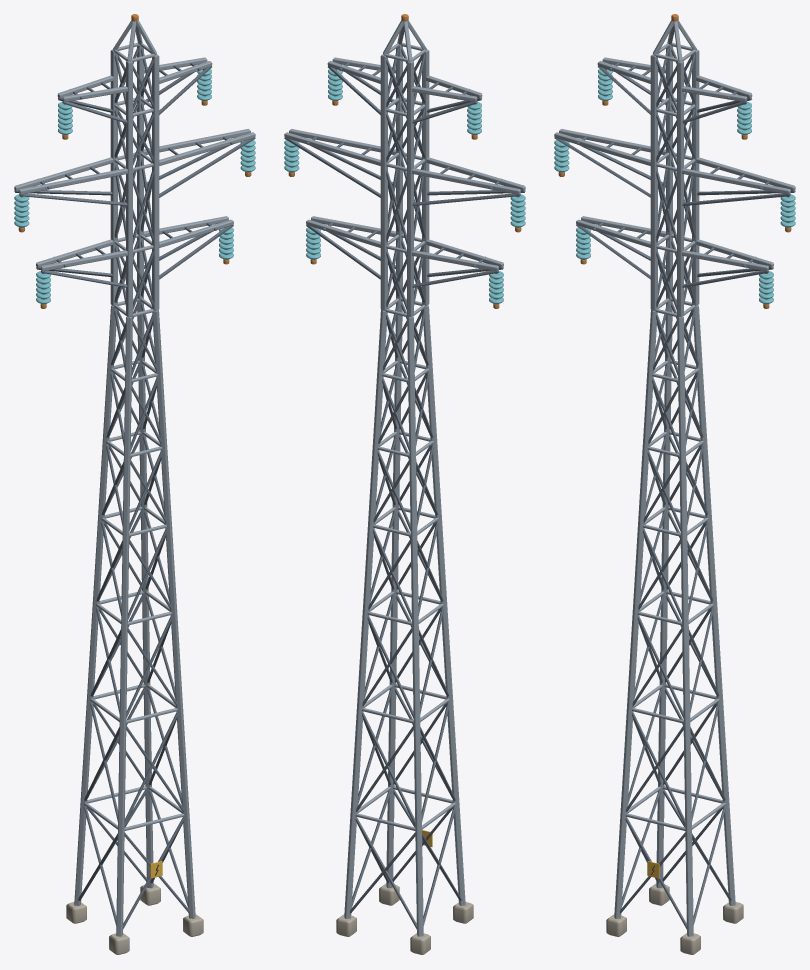
File: poteau_tres_haute_tension.glb
3 views of the same model, side by side, from view 1: azimuth 30°, elevation 25°; view 2: azimuth 150°, elevation 25°; view 3: azimuth 330°, elevation 25° (orthographic).
Parts seen in each view (by area): view 1: pieces_pylone.004, pieces_pylone_sombre.004, pieces_isolateur_verre.004, pieces_socle_beton.004; view 2: pieces_pylone.004, pieces_pylone_sombre.004, pieces_isolateur_verre.004, pieces_socle_beton.004; view 3: pieces_pylone.004, pieces_pylone_sombre.004, pieces_isolateur_verre.004, pieces_socle_beton.004.
Part boxes in pixels (left/top/right/bottom): pieces_pylone.004: left=14, top=20, right=255, bottom=936; pieces_pylone_sombre.004: left=14, top=47, right=255, bottom=929; pieces_isolateur_verre.004: left=14, top=69, right=255, bottom=304; pieces_socle_beton.004: left=66, top=883, right=203, bottom=954; pieces_pylone.004: left=284, top=20, right=525, bottom=936; pieces_pylone_sombre.004: left=284, top=47, right=525, bottom=929; pieces_isolateur_verre.004: left=284, top=69, right=525, bottom=304; pieces_socle_beton.004: left=336, top=883, right=473, bottom=954; pieces_pylone.004: left=554, top=20, right=795, bottom=936; pieces_pylone_sombre.004: left=554, top=47, right=795, bottom=929; pieces_isolateur_verre.004: left=554, top=69, right=795, bottom=304; pieces_socle_beton.004: left=606, top=883, right=743, bottom=954.
Bounding box in the file's own units: 2.75 × 10.01 × 1.02.
